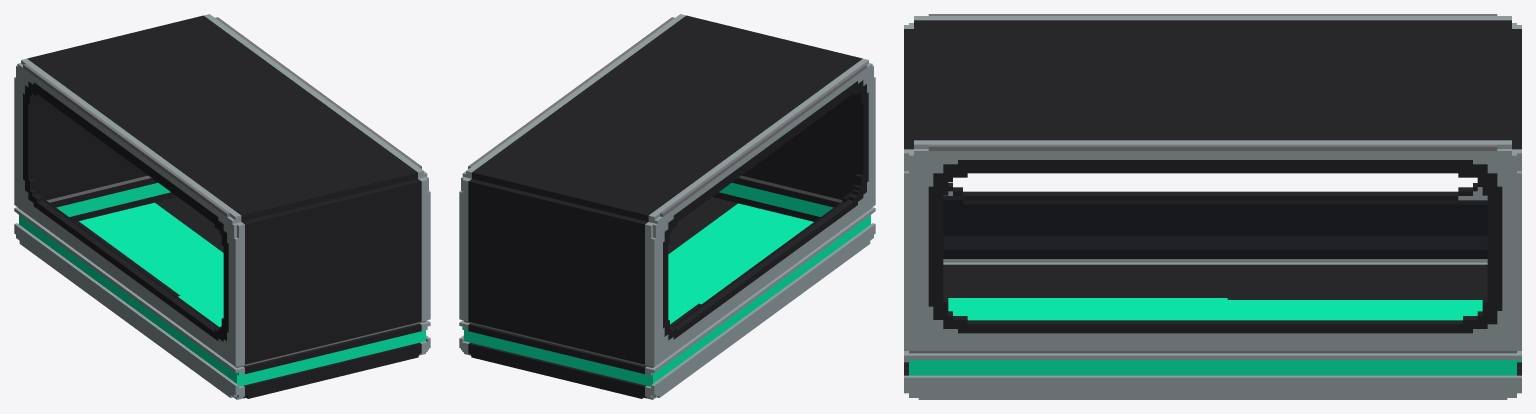
File: Monorail_002-1.obj
The picture shows the model from 3 angles, left to right: view 1: azimuth 30°, elevation 25°; view 2: azimuth 150°, elevation 25°; view 3: azimuth 270°, elevation 25°; orthographic projection. The views are drawn at different scales.
Bounding box in the file's own units: 6.4 × 5.7 × 12.6.
Materials: 1 (1 with a texture image).
